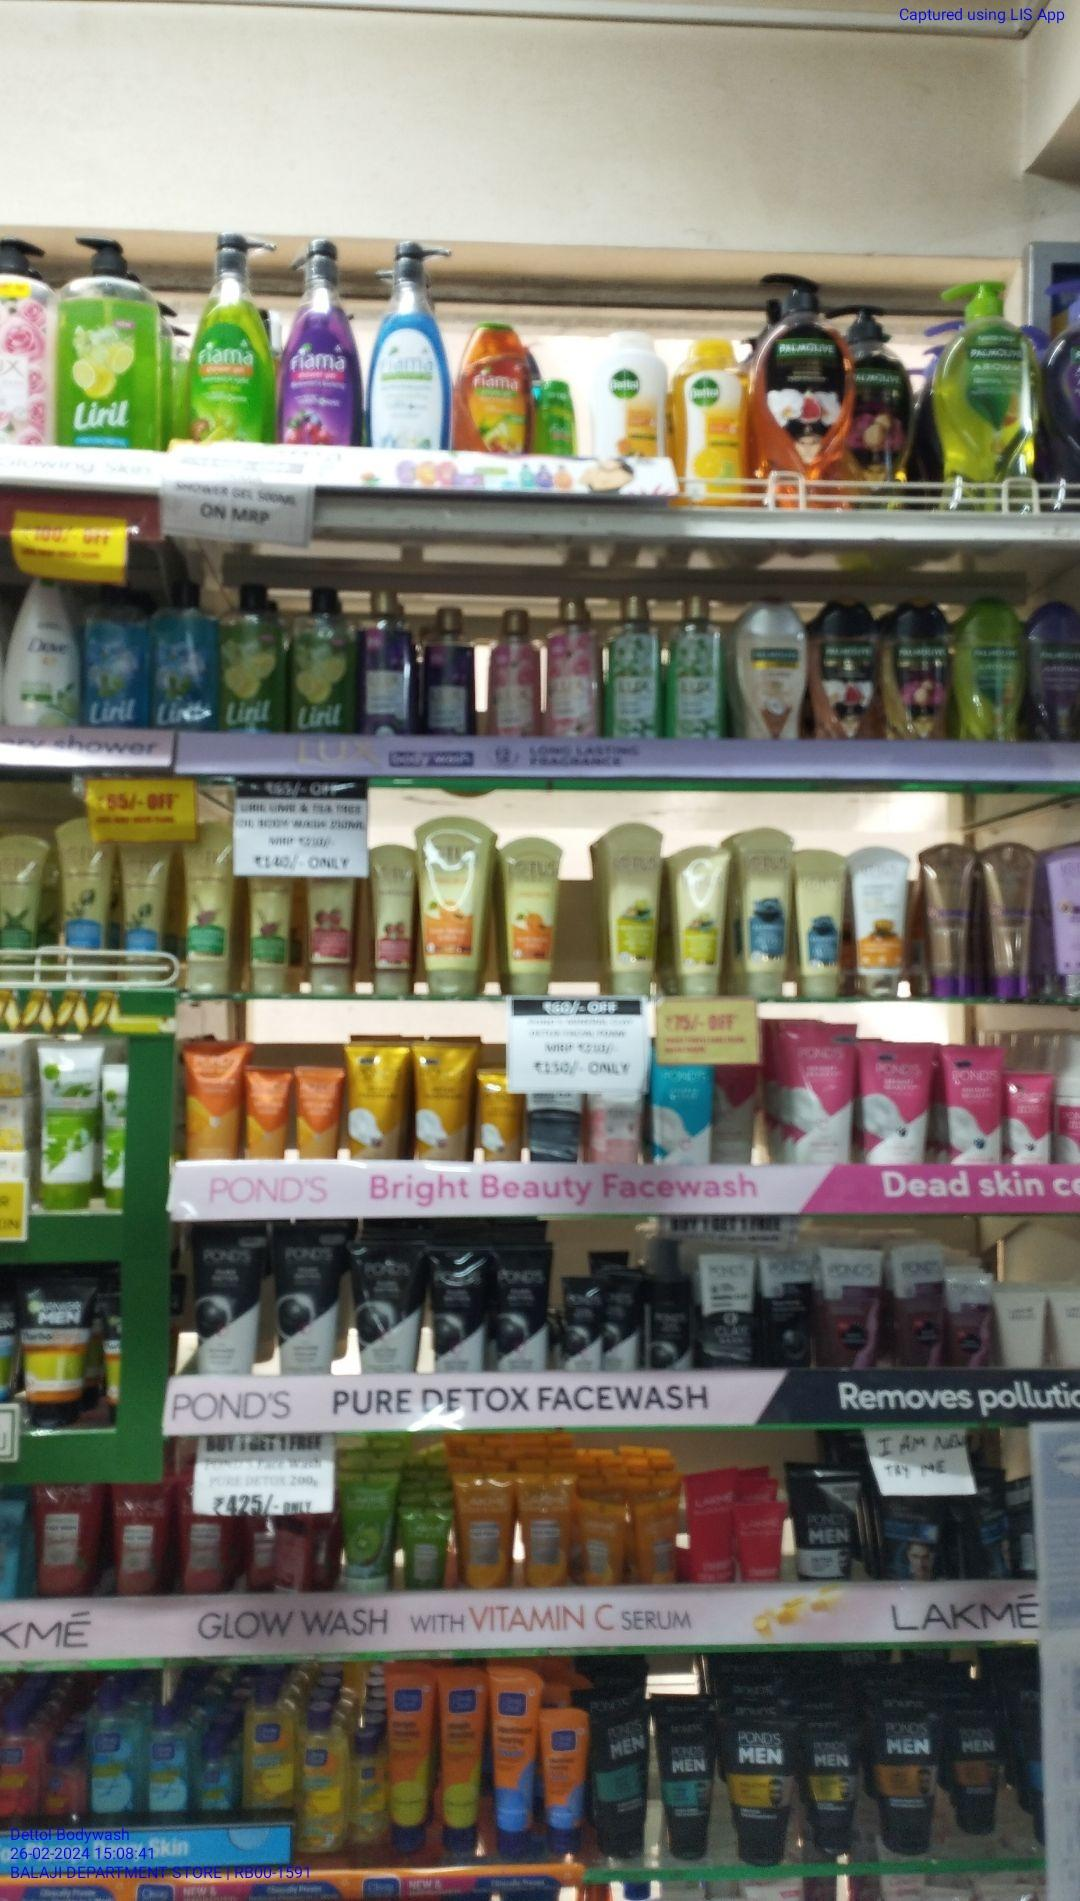Lux_Black_Orchid_Scent_and_Juniper_Oil_Body_Wash_245ML: (363, 591, 417, 735), (424, 606, 474, 739)
Lux_Body_Wash_Skin_Detox_Freesia_Scent_and_Alove_Vera_245ML: (670, 595, 723, 739), (612, 598, 658, 740)
